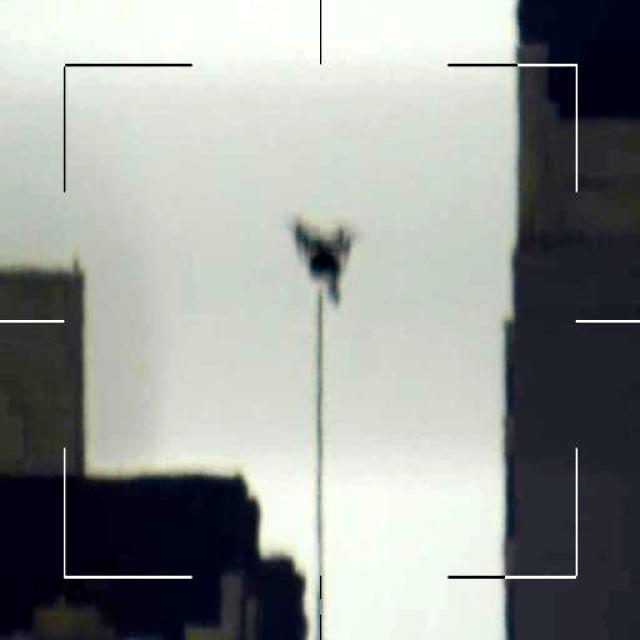bird: (294, 215, 361, 304)
